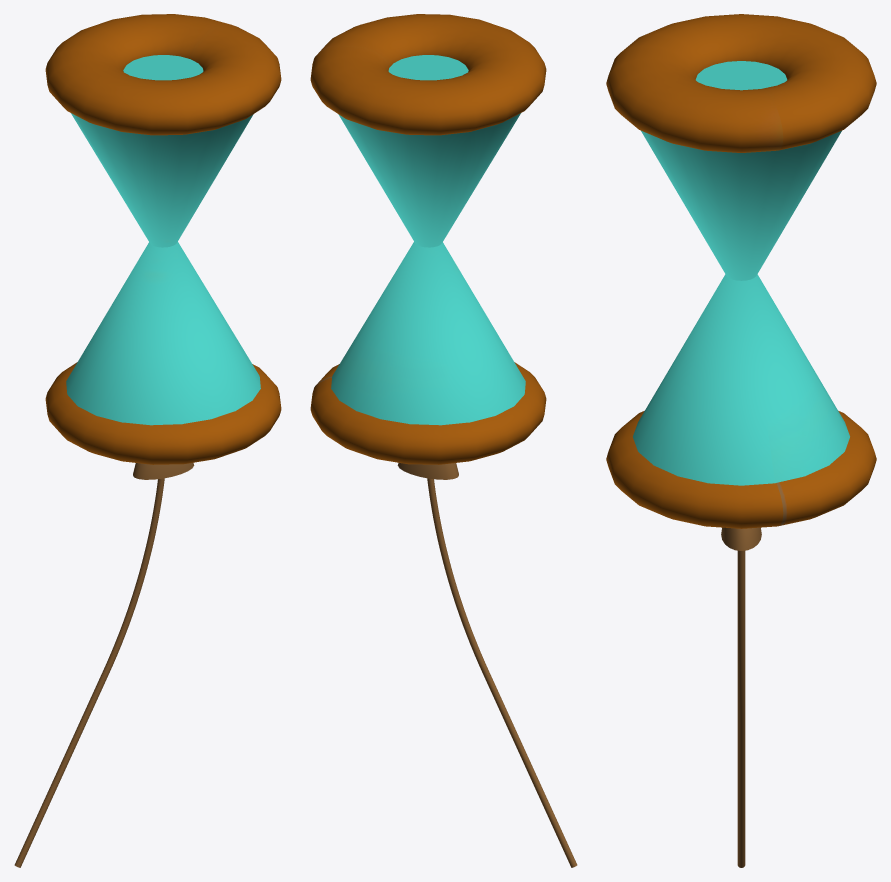
The model's file is Time Balloon.fbx.
3 renders of one model, left to right at view 1: azimuth 30°, elevation 25°; view 2: azimuth 150°, elevation 25°; view 3: azimuth 270°, elevation 25°, orthographic. The views are drawn at different scales.
Parts seen in each view (by area): view 1: pCone4; view 2: pCone4; view 3: pCone4.
Part boxes in pixels (x1=…): pCone4: x1=14, y1=14, x2=281, y2=867; pCone4: x1=310, y1=14, x2=577, y2=867; pCone4: x1=606, y1=14, x2=876, y2=867.
Bounding box in the file's own units: 10.94 × 32.42 × 8.94.
Materials: 1 (1 with a texture image).
